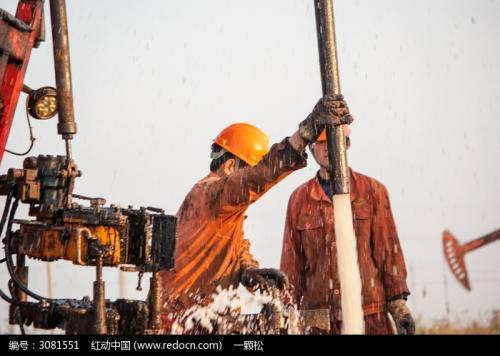helmet: (205, 115, 276, 190), (306, 109, 356, 171)
person: (282, 115, 422, 333), (167, 122, 301, 333)
